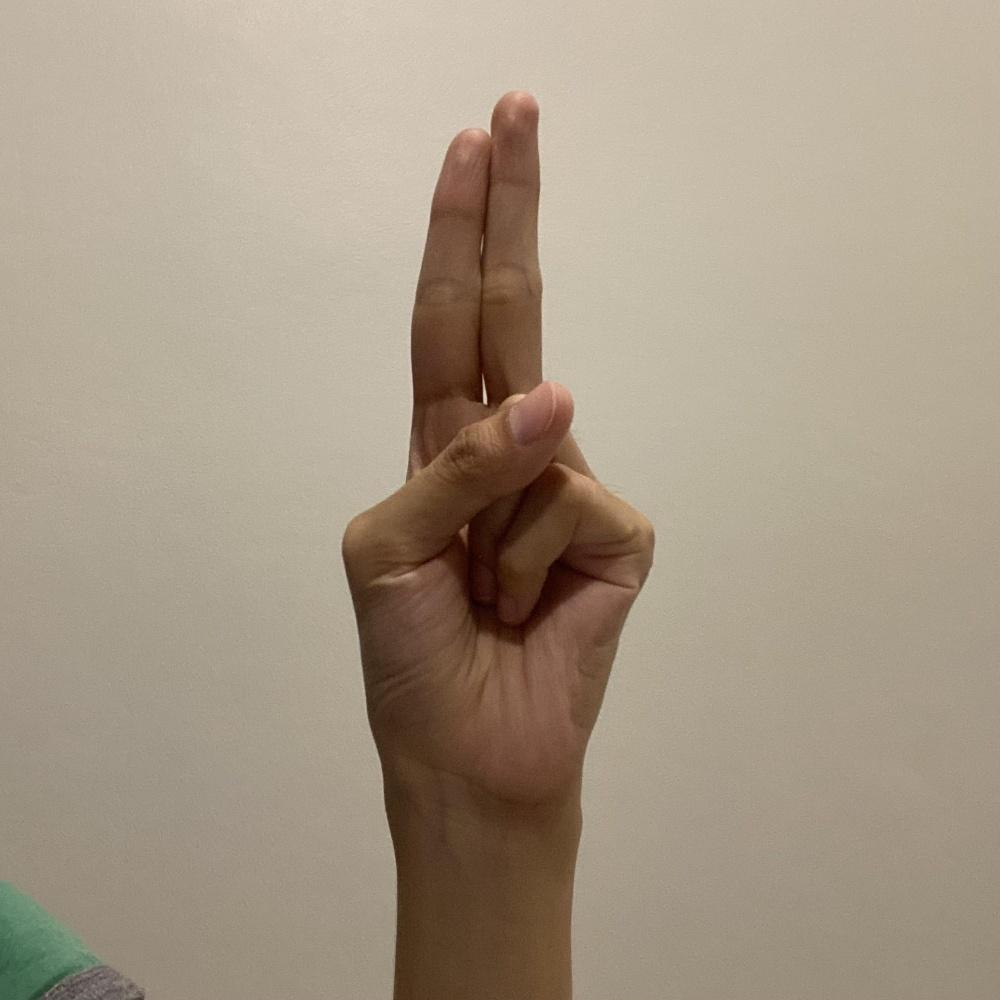u: (336, 82, 660, 803)
